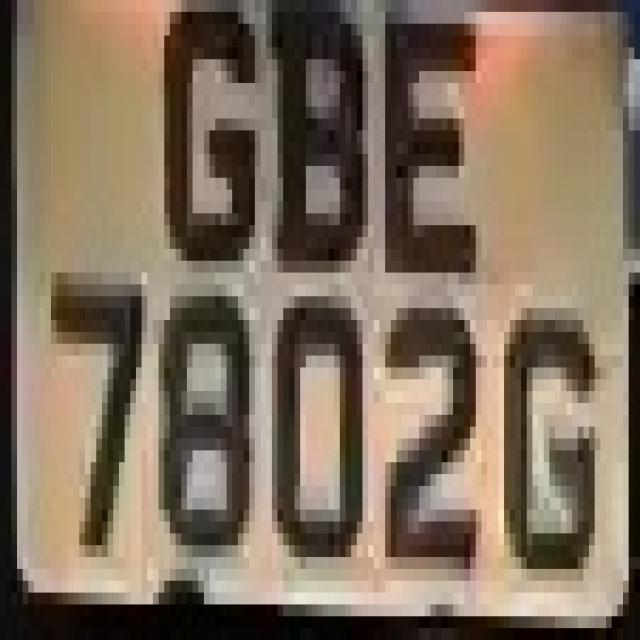0: (260, 296, 380, 581)
2: (379, 284, 510, 616)
7: (40, 213, 142, 569)
8: (147, 272, 255, 569)
B: (260, 0, 368, 284)
E: (362, 0, 493, 308)
G: (147, 0, 271, 284), (498, 272, 600, 604)
